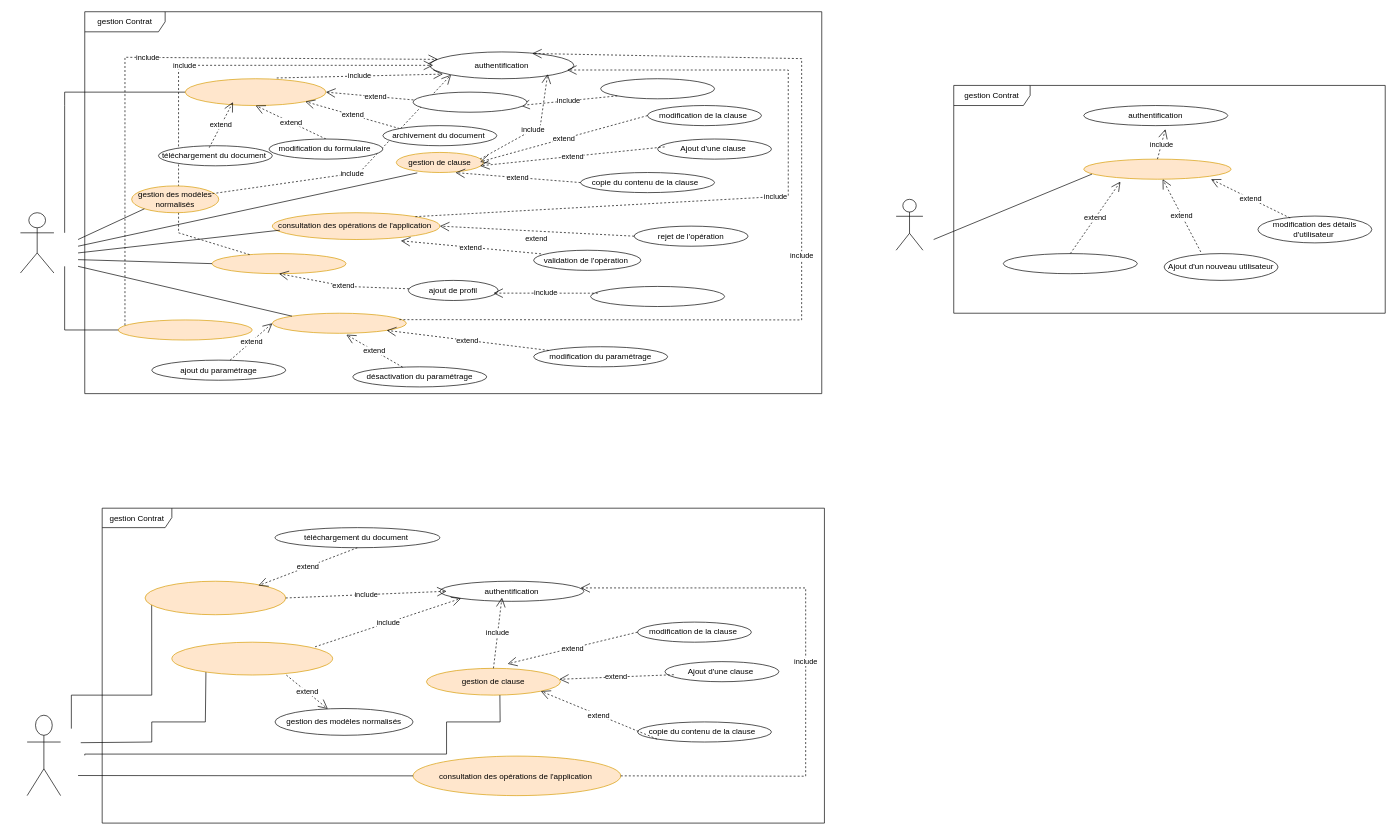
This 1397x835 diagram has some shape labels left out. Here are the shapes that lost their labels. From the top down, the box of each, then its label:
(185, 78, 326, 106): gestion du formulaire du document
(412, 91, 527, 112): remplissage du formulaire
(600, 78, 715, 99): chargement du document
(1083, 158, 1231, 179): gestion des utilisateurs
(20, 212, 54, 273): Administrateur
(895, 199, 923, 250): Agent d'habilitation
(211, 253, 346, 274): gestion des permissions
(1003, 253, 1137, 274): suppresion d'un utilisateur
(590, 286, 725, 307): attribution des permissions
(118, 319, 252, 340): consultation de la traçabilité
(272, 313, 406, 333): gestion du paramétrage
(144, 581, 286, 615): consultation des documents
(171, 642, 333, 675): téléchargement du modèle
(26, 715, 61, 796): Juriste
